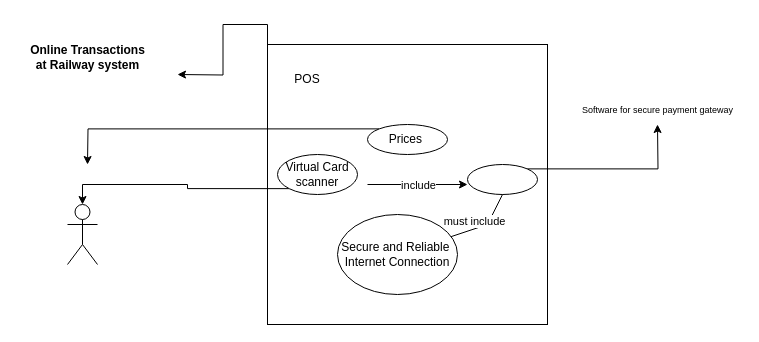
The diagram is 759 pixels wide and 342 high, and some of its shapes have lost their labels. The centre of each missing label's shape, as x and y in pixels:
Customer: [82,234]
PCI DSS: [502,179]
